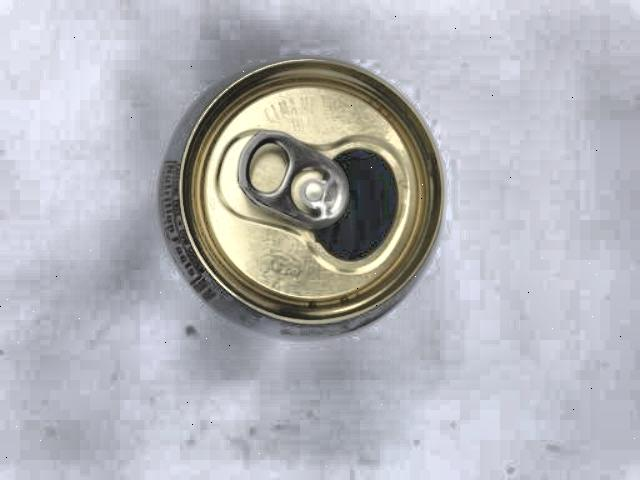Bottles: (156, 49, 454, 338)
